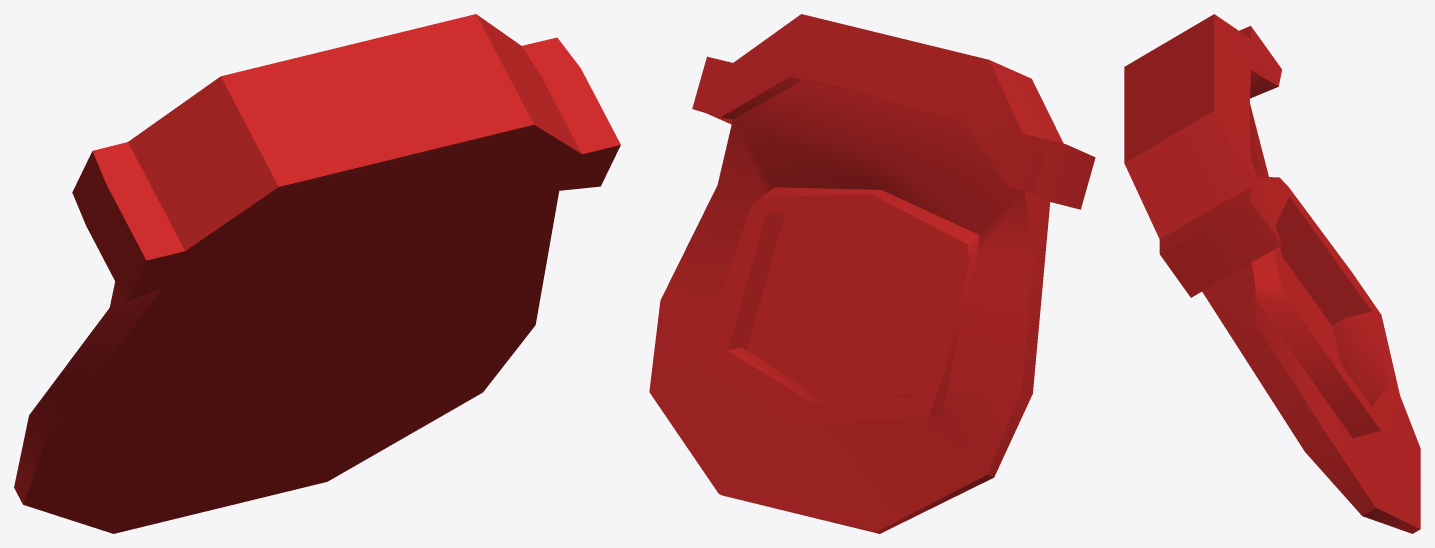
The model's file is palace_roof_top_window.fbx.
3 renders of one model, left to right at view 1: azimuth 30°, elevation 25°; view 2: azimuth 150°, elevation 25°; view 3: azimuth 270°, elevation 25°, orthographic. The views are drawn at different scales.
Visible parts, largest first — view 1: window; view 2: window; view 3: window.
Part boxes in pixels (x1,y1,x2,y2): window: (14, 14, 620, 533); window: (649, 14, 1095, 533); window: (1124, 14, 1420, 533).
Size of the model in its own units: 105 by 114 by 70.86.
